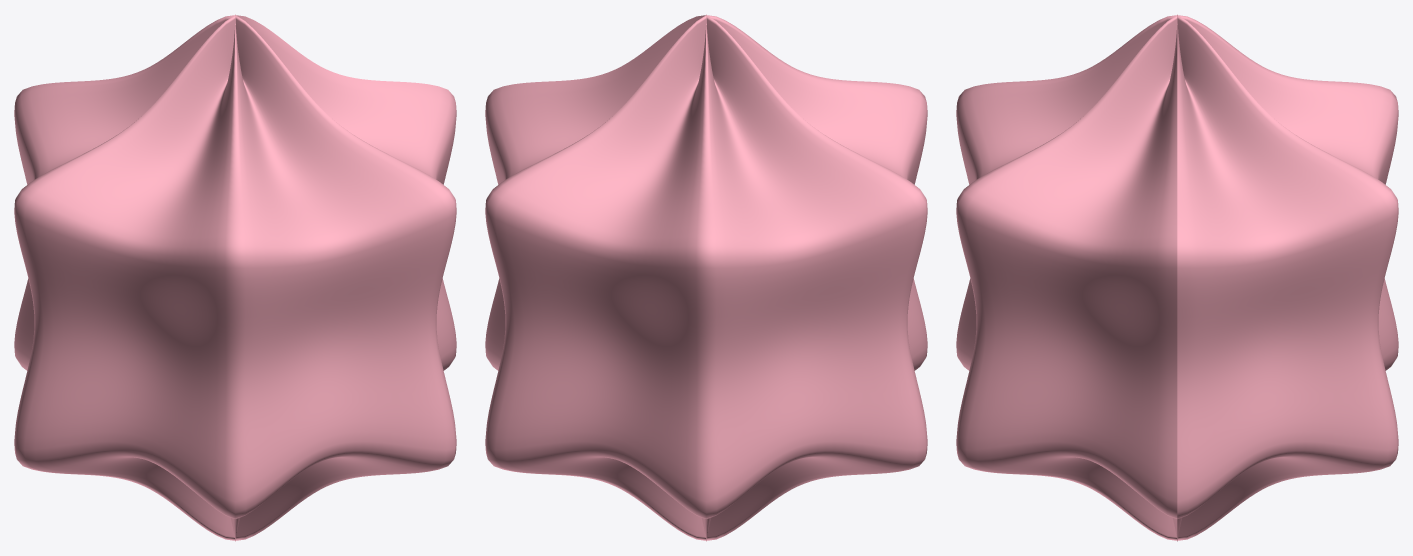
The model's file is ex_supershape.glb.
The picture shows the model from 3 angles, left to right: view 1: azimuth 30°, elevation 25°; view 2: azimuth 150°, elevation 25°; view 3: azimuth 270°, elevation 25°; orthographic projection.
Visible parts, largest first — view 1: Supershape; view 2: Supershape; view 3: Supershape.
Boxes of the visible parts, x1,y1,x2,y2 form: Supershape: (14, 14, 456, 541); Supershape: (485, 14, 927, 541); Supershape: (956, 14, 1398, 541).
Bounding box in the file's own units: 2.01 × 2.3 × 1.75.
